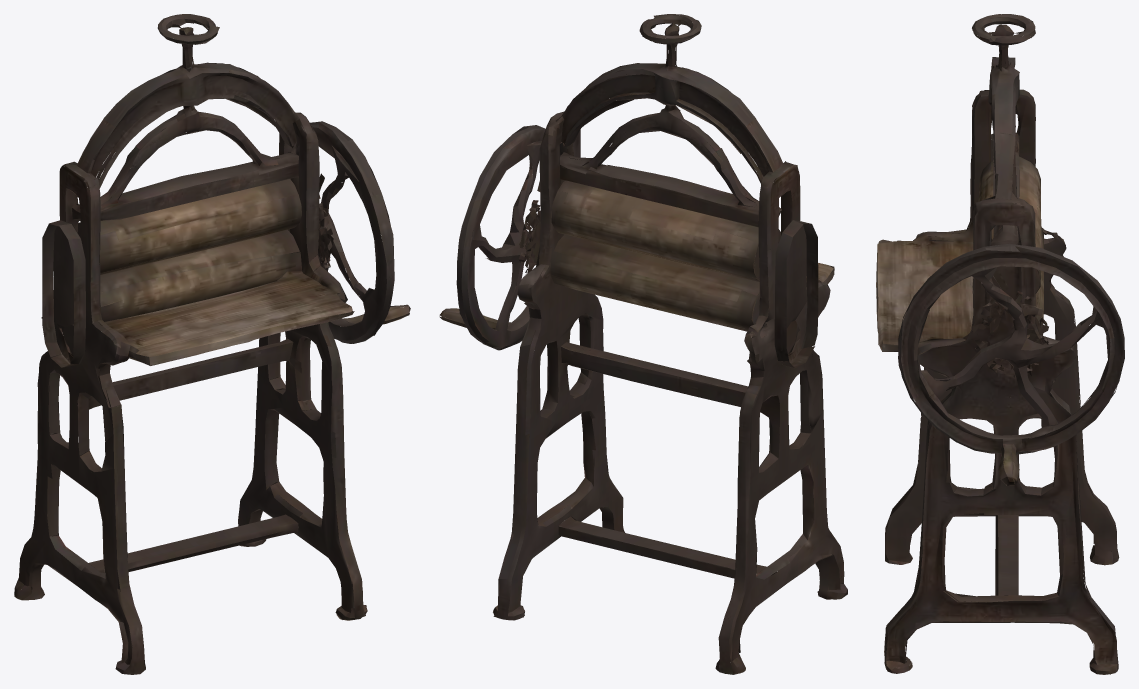
The model's file is mangle.glb.
3 views of the same model, side by side, from view 1: azimuth 30°, elevation 25°; view 2: azimuth 150°, elevation 25°; view 3: azimuth 270°, elevation 25° (orthographic).
Parts seen in each view (by area): view 1: Mesh_0; view 2: Mesh_0; view 3: Mesh_0.
Part boxes in pixels (<box>): Mesh_0: <box>14,14,410,674</box>; Mesh_0: <box>439,14,847,674</box>; Mesh_0: <box>876,14,1124,674</box>.
Bounding box in the file's own units: 1.02 × 1.58 × 0.6057.
1 material, 1 textured.
